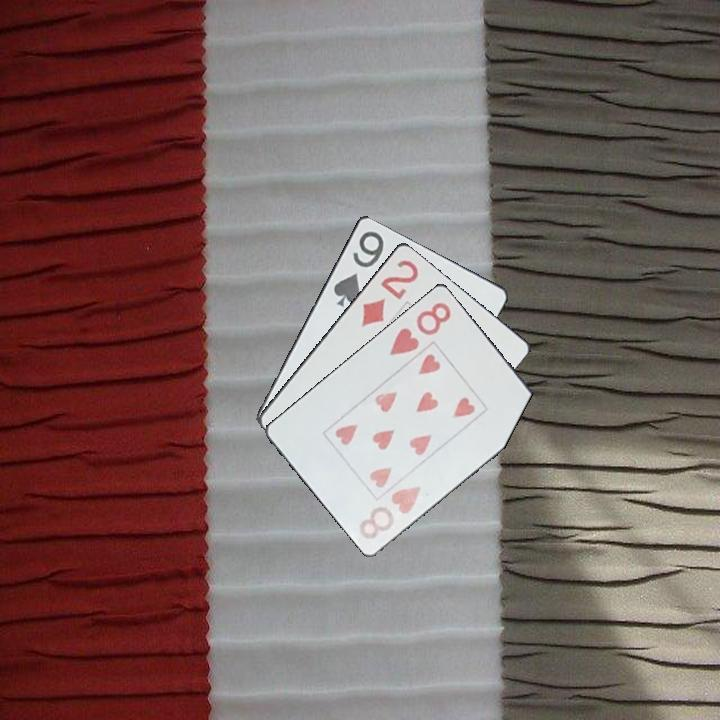2d: (357, 254, 421, 330)
8h: (386, 298, 454, 359), (356, 482, 423, 542)
9s: (330, 227, 387, 310)
